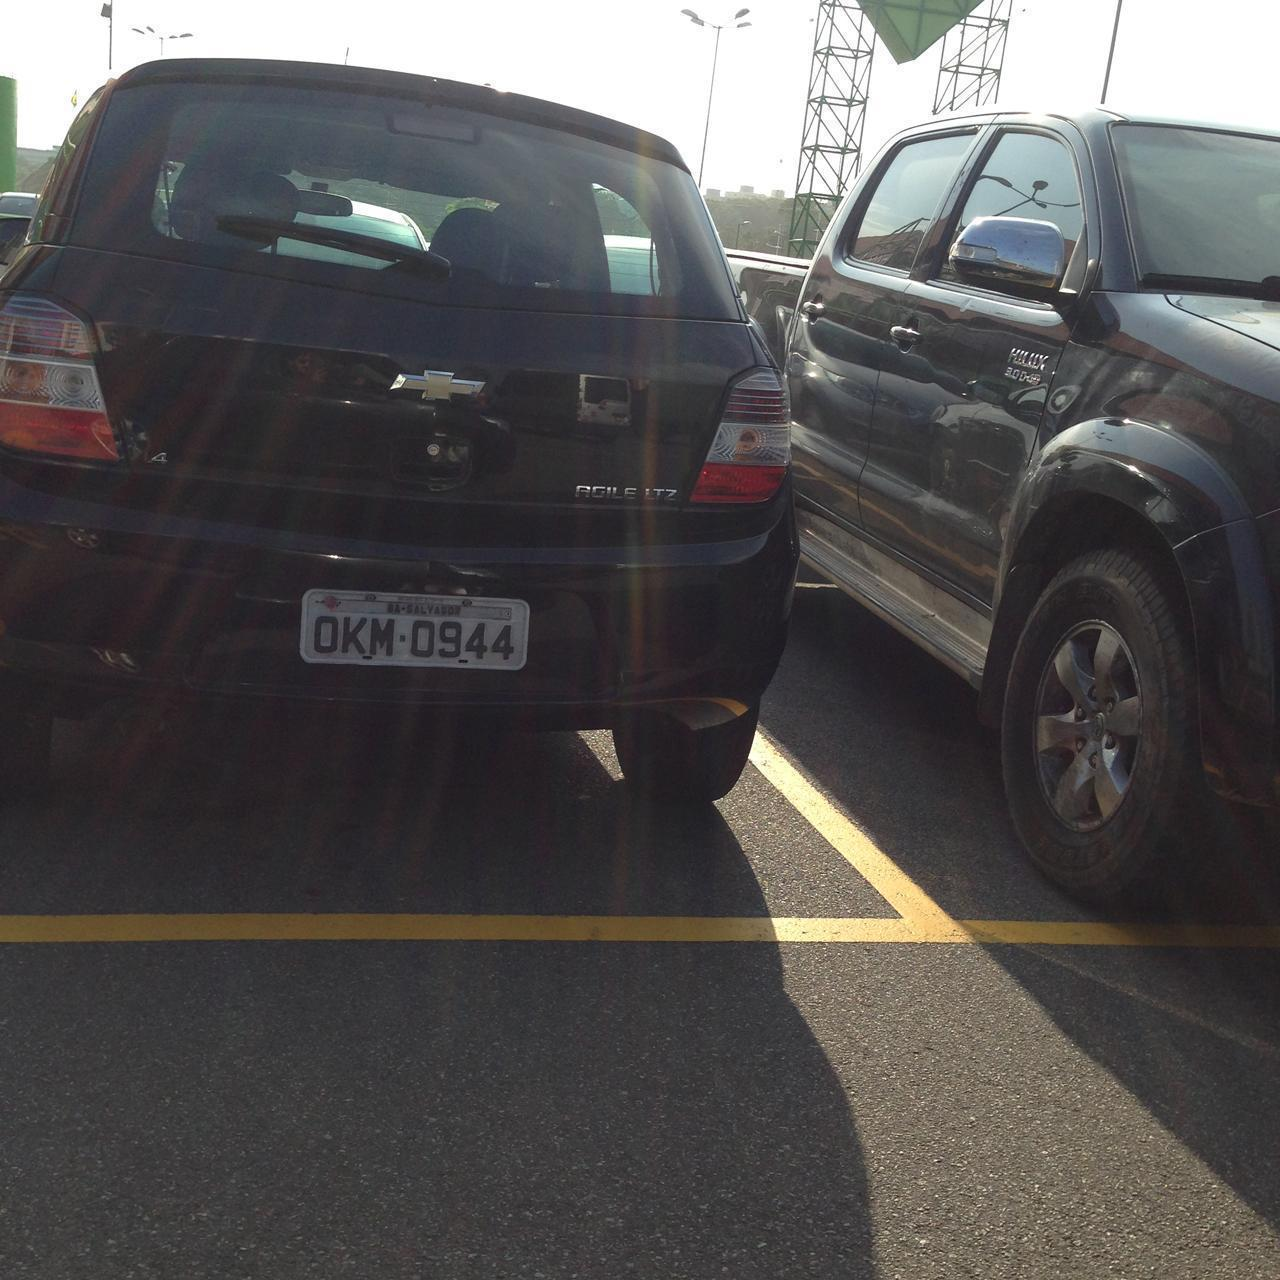placa de veiculo: (292, 575, 542, 700)
